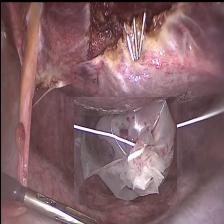Grasper: (19, 180, 106, 224)
Specimen Bag: (73, 96, 176, 204)
